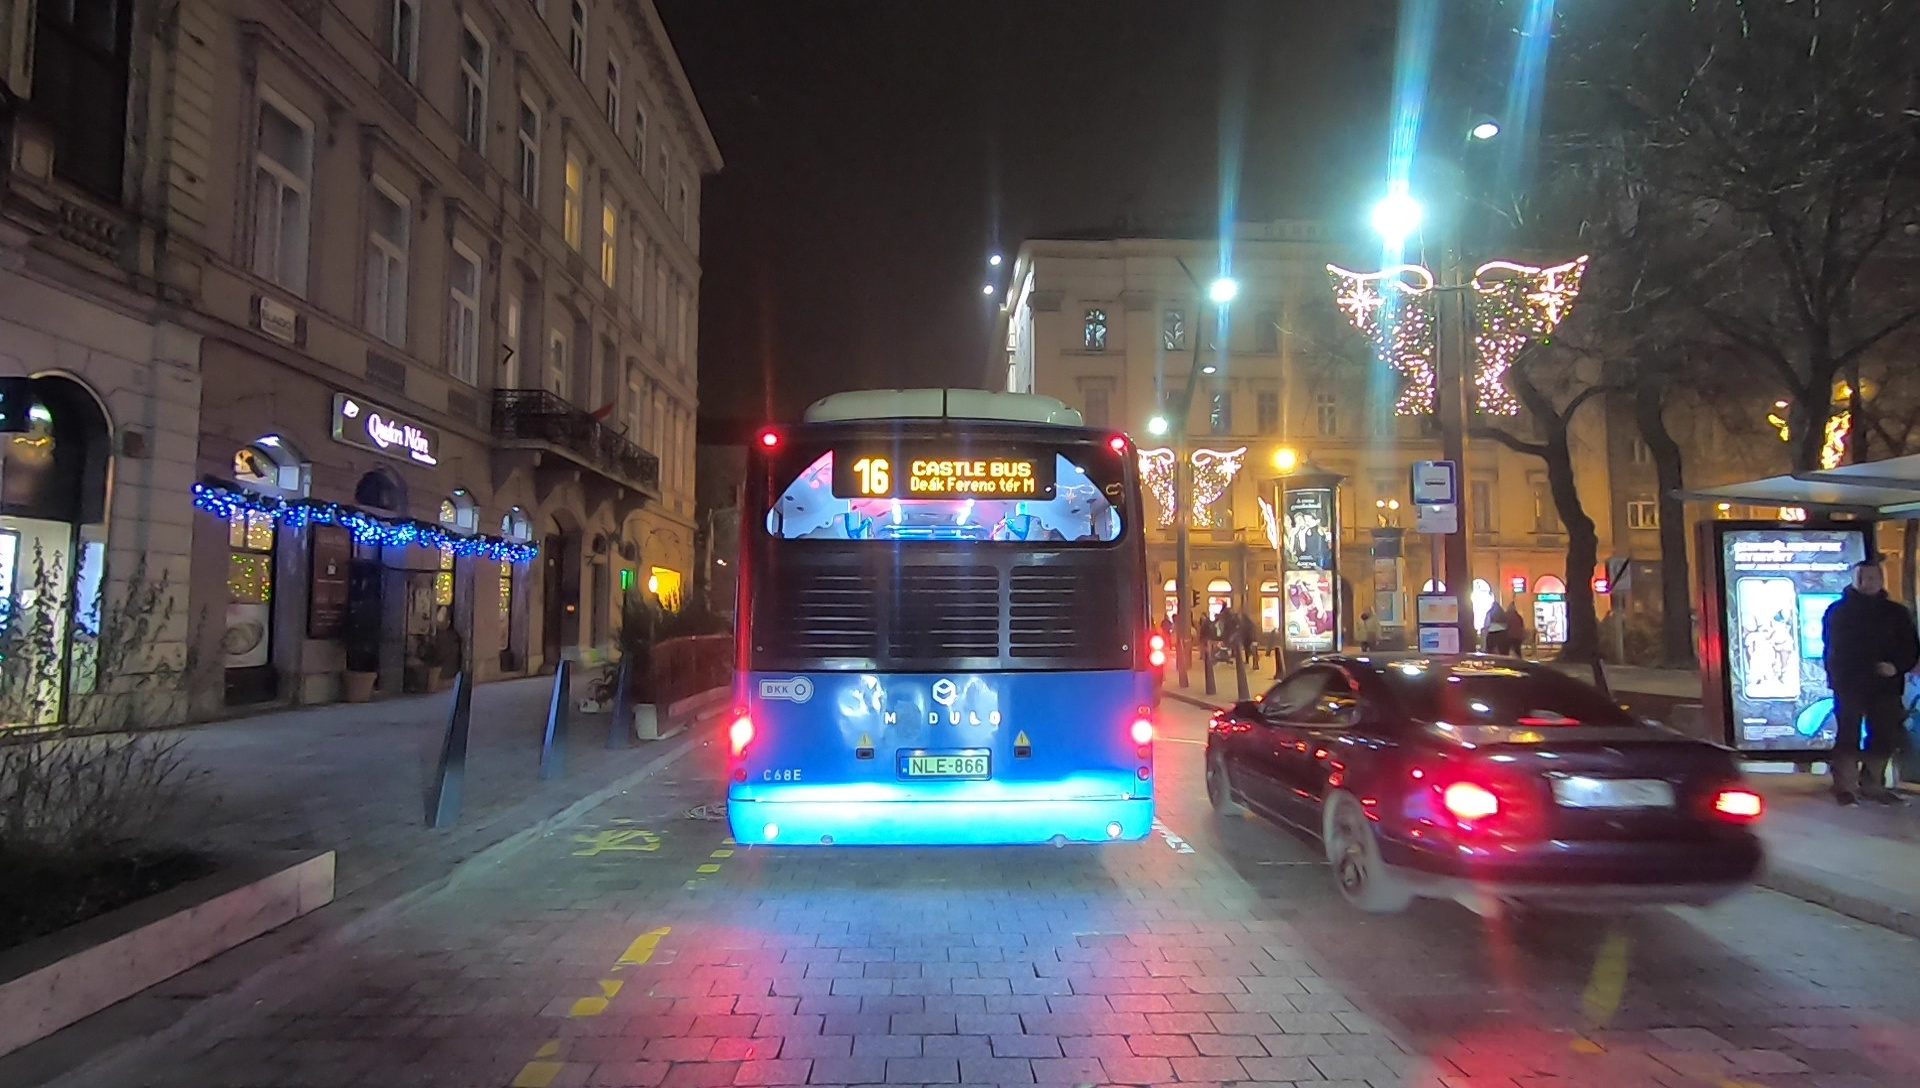person: (1825, 565, 1914, 799), (1483, 603, 1506, 666), (1509, 599, 1525, 675)
